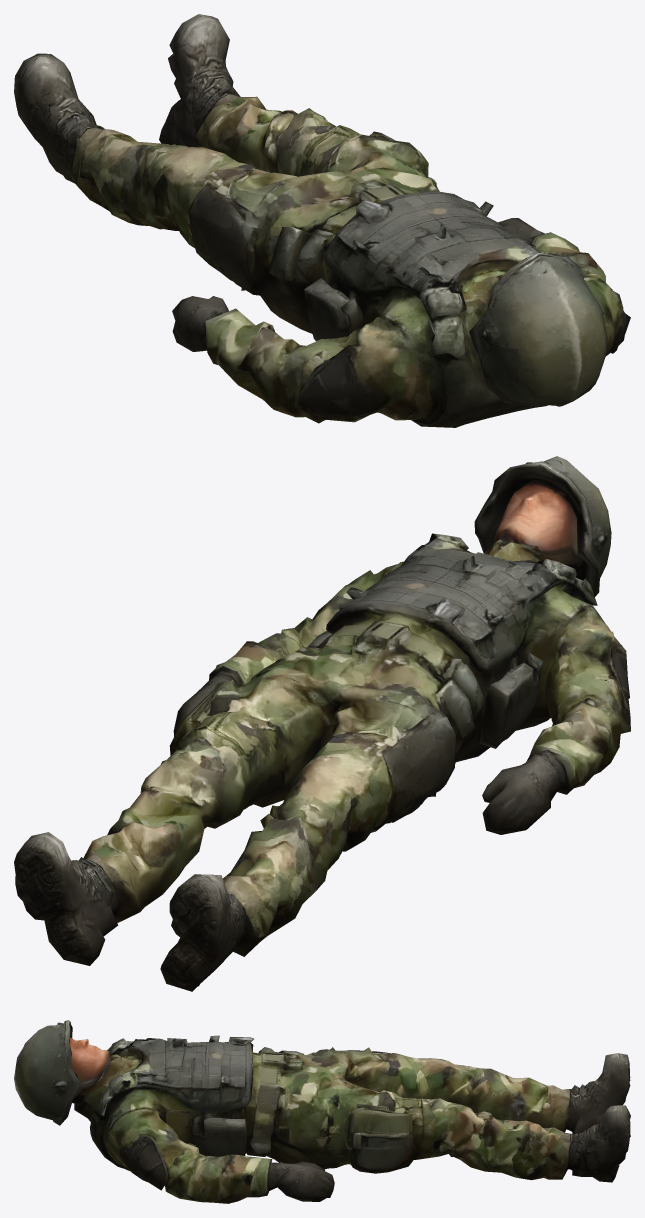
The model's file is ul_soldier_down.glb.
3 renders of one model, top to bottom at view 1: azimuth 30°, elevation 25°; view 2: azimuth 150°, elevation 25°; view 3: azimuth 270°, elevation 25°, orthographic. The views are drawn at different scales.
Parts seen in each view (by area): view 1: tripo_node_3cc79cfa-6ddd-4de8-b594-84e913978a84; view 2: tripo_node_3cc79cfa-6ddd-4de8-b594-84e913978a84; view 3: tripo_node_3cc79cfa-6ddd-4de8-b594-84e913978a84.
Boxes of the visible parts, x1=… form: tripo_node_3cc79cfa-6ddd-4de8-b594-84e913978a84: x1=14, y1=14, x2=630, y2=427; tripo_node_3cc79cfa-6ddd-4de8-b594-84e913978a84: x1=14, y1=456, x2=630, y2=991; tripo_node_3cc79cfa-6ddd-4de8-b594-84e913978a84: x1=14, y1=1020, x2=630, y2=1203.
Bounding box in the file's own units: 0.4554 × 0.2541 × 1.
Materials: 1 (1 with a texture image).
